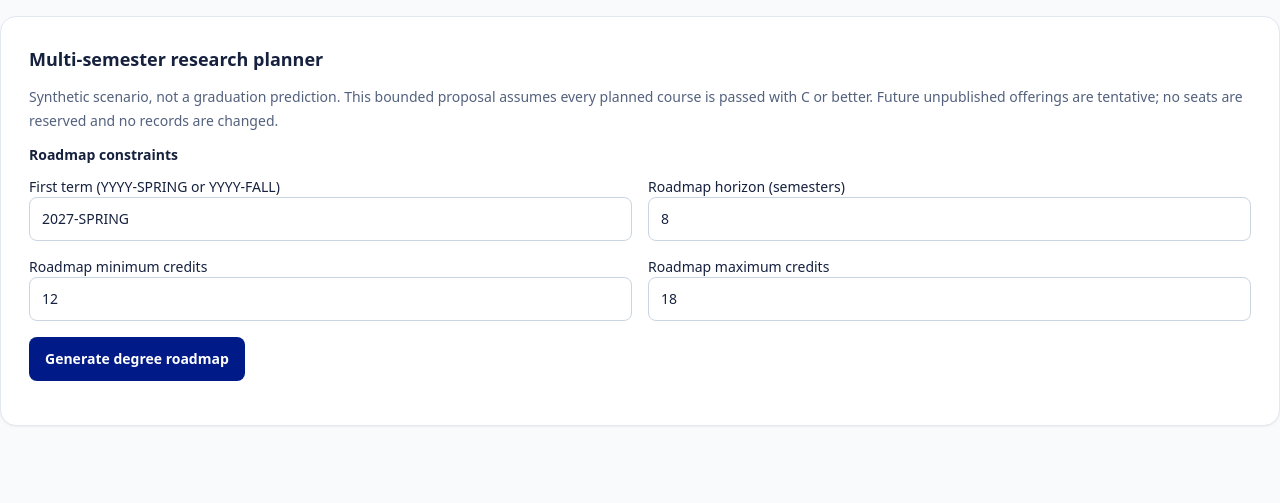
Test case: roadmap timeout is explicit and never shows a fabricated graduation plan
The image size is (1280, 503).
Click the button "Generate degree roadmap" at (137, 359), box [29, 337, 245, 381]
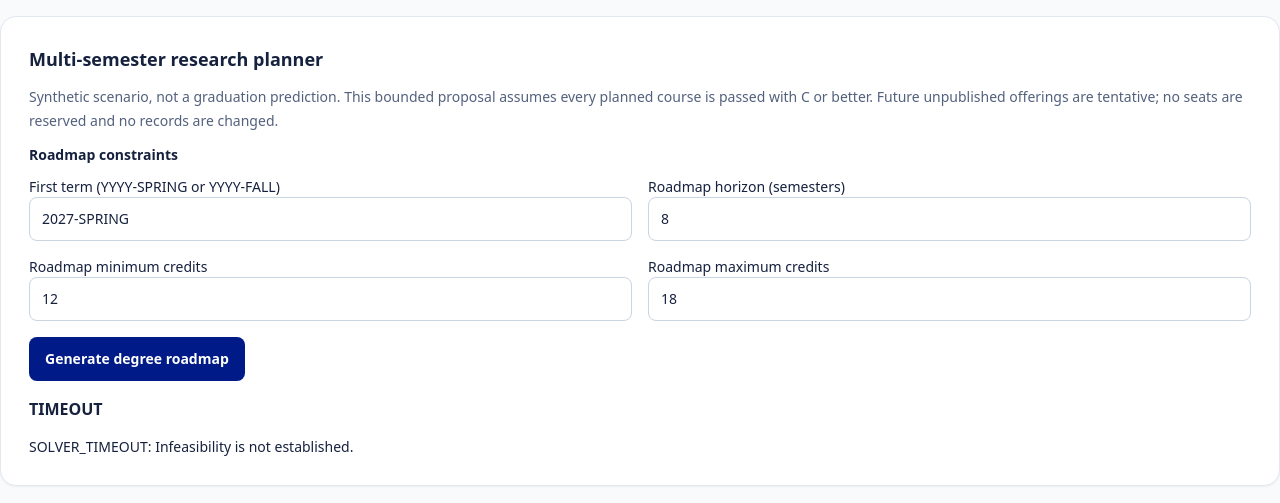
Expected: the text "not a graduation prediction" is shown, [29, 87, 1243, 130]
Expected: the message reads "TIMEOUT", [29, 398, 103, 420]
